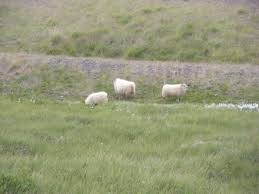sheep: (110, 76, 140, 101), (83, 89, 112, 111), (162, 82, 190, 101)
